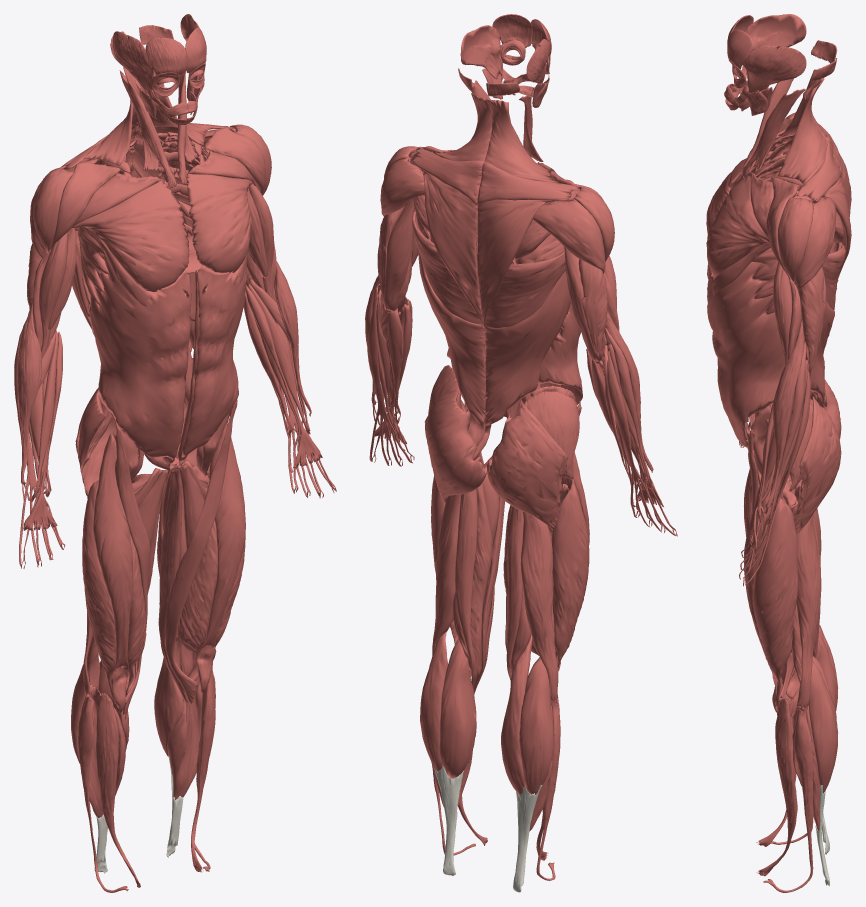
File: musculos.glb
The picture shows the model from 3 angles, left to right: view 1: azimuth 30°, elevation 25°; view 2: azimuth 150°, elevation 25°; view 3: azimuth 270°, elevation 25°; orthographic projection. The views are drawn at different scales.
Visible parts, largest first — view 1: oblicuo_externo.r, pectoral_mayor.r, oblicuo_externo.l, pectoral_mayor.l, recto_femoral.r, flexores_antebrazo.l, recto_femoral.l, deltoides.r, flexores_antebrazo.r, sartorio.l, vasto_lateral.r, vasto_medial.l (+35 smaller); view 2: dorsal_ancho.r, trapecio.r, trapecio.l, gluteo_mayor.r, gemelos.l, dorsal_ancho.l, gemelos.r, vasto_lateral.r, biceps_femoral.r, gluteo_mayor.l, deltoides.r, extensores_antebrazo.r (+26 smaller); view 3: oblicuo_externo.l, vasto_lateral.l, deltoides.l, pectoral_mayor.l, trapecio.l, biceps_femoral.l, gluteo_mayor.l, extensores_antebrazo.l, gemelos.l, braquiorradial.l, temporal.l, tibial_anterior.l (+28 smaller).
Boxes of the visible parts, <box> form: oblicuo_externo.r: <box>89,255,191,459</box>; pectoral_mayor.r: <box>72,173,189,306</box>; oblicuo_externo.l: <box>181,260,246,457</box>; pectoral_mayor.l: <box>187,150,256,284</box>; recto_femoral.r: <box>93,434,132,713</box>; flexores_antebrazo.l: <box>243,277,336,498</box>; recto_femoral.l: <box>195,423,245,693</box>; deltoides.r: <box>30,162,120,257</box>; flexores_antebrazo.r: <box>21,330,65,568</box>; sartorio.l: <box>165,399,237,703</box>; vasto_lateral.r: <box>82,480,116,705</box>; vasto_medial.l: <box>177,520,217,677</box>; dorsal_ancho.r: <box>484,251,570,425</box>; trapecio.r: <box>477,99,579,327</box>; trapecio.l: <box>409,93,492,326</box>; gluteo_mayor.r: <box>487,403,568,529</box>; gemelos.l: <box>420,626,476,778</box>; dorsal_ancho.l: <box>412,211,485,423</box>; gemelos.r: <box>501,634,553,794</box>; vasto_lateral.r: <box>551,478,589,668</box>; biceps_femoral.r: <box>520,511,558,701</box>; gluteo_mayor.l: <box>424,388,487,502</box>; deltoides.r: <box>533,171,614,273</box>; extensores_antebrazo.r: <box>604,327,676,535</box>; oblicuo_externo.l: <box>707,262,785,447</box>; vasto_lateral.l: <box>753,498,798,706</box>; deltoides.l: <box>766,178,836,291</box>; pectoral_mayor.l: <box>706,171,773,292</box>; trapecio.l: <box>778,77,851,275</box>; biceps_femoral.l: <box>791,514,821,709</box>; gluteo_mayor.l: <box>792,396,841,534</box>; extensores_antebrazo.l: <box>743,342,811,584</box>; gemelos.l: <box>794,656,838,793</box>; braquiorradial.l: <box>765,316,804,509</box>; temporal.l: <box>743,45,806,92</box>; tibial_anterior.l: <box>756,698,797,876</box>.
Bounding box in the file's own units: 0.6515 × 1.7 × 0.2645.
